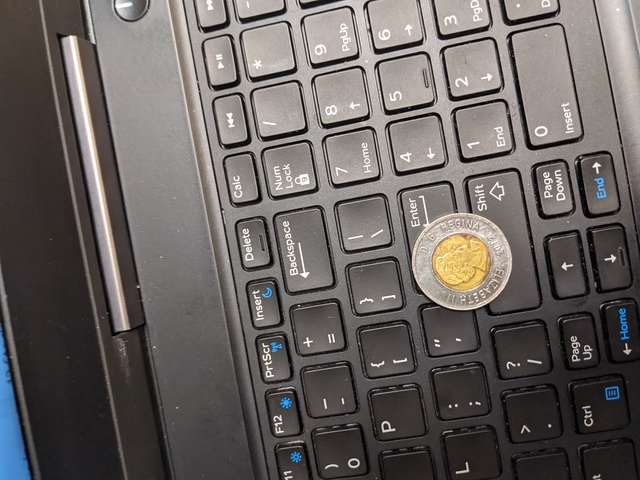twonie: (401, 201, 523, 313)
